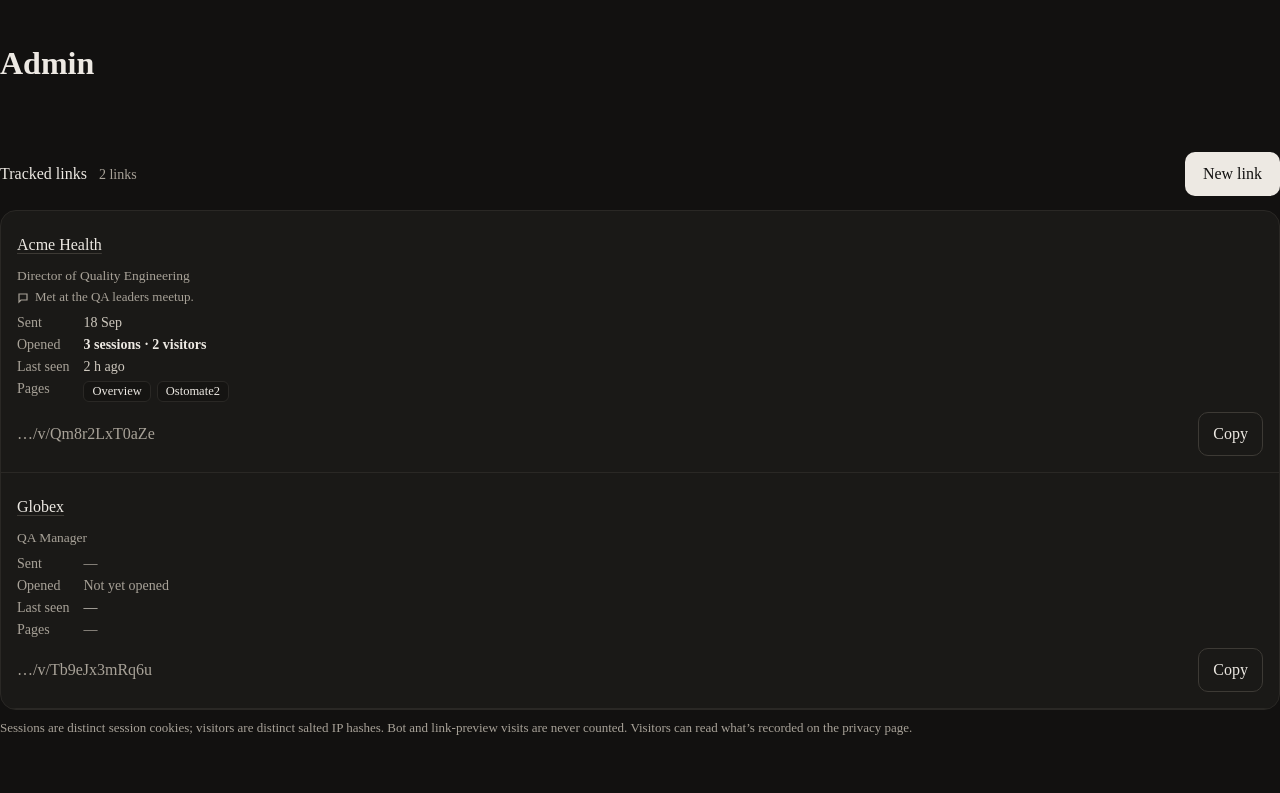
AdminLinks create form › closes on Cancel
Click the button "New link": (1232, 174) x1=1185 y1=152 x2=1279 y2=196
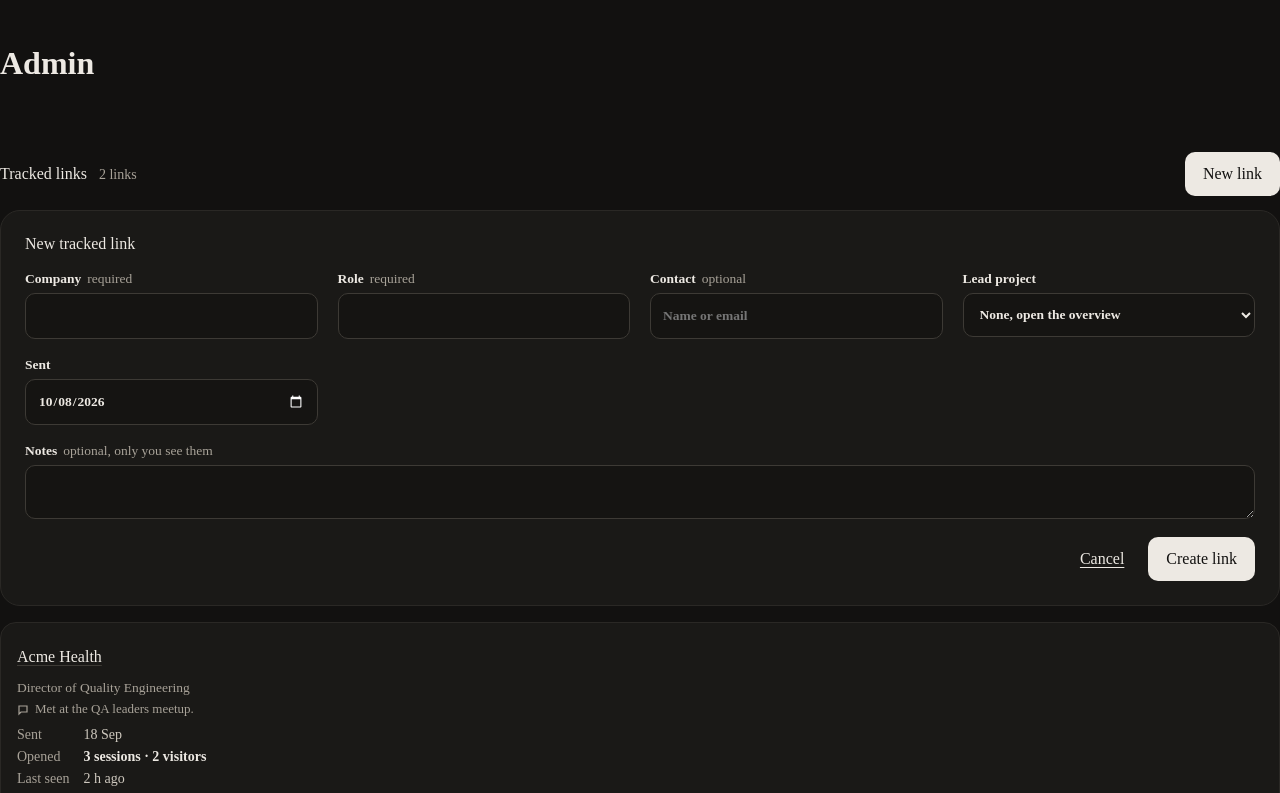
Click the button "Cancel": (1102, 559) x1=1066 y1=537 x2=1138 y2=581
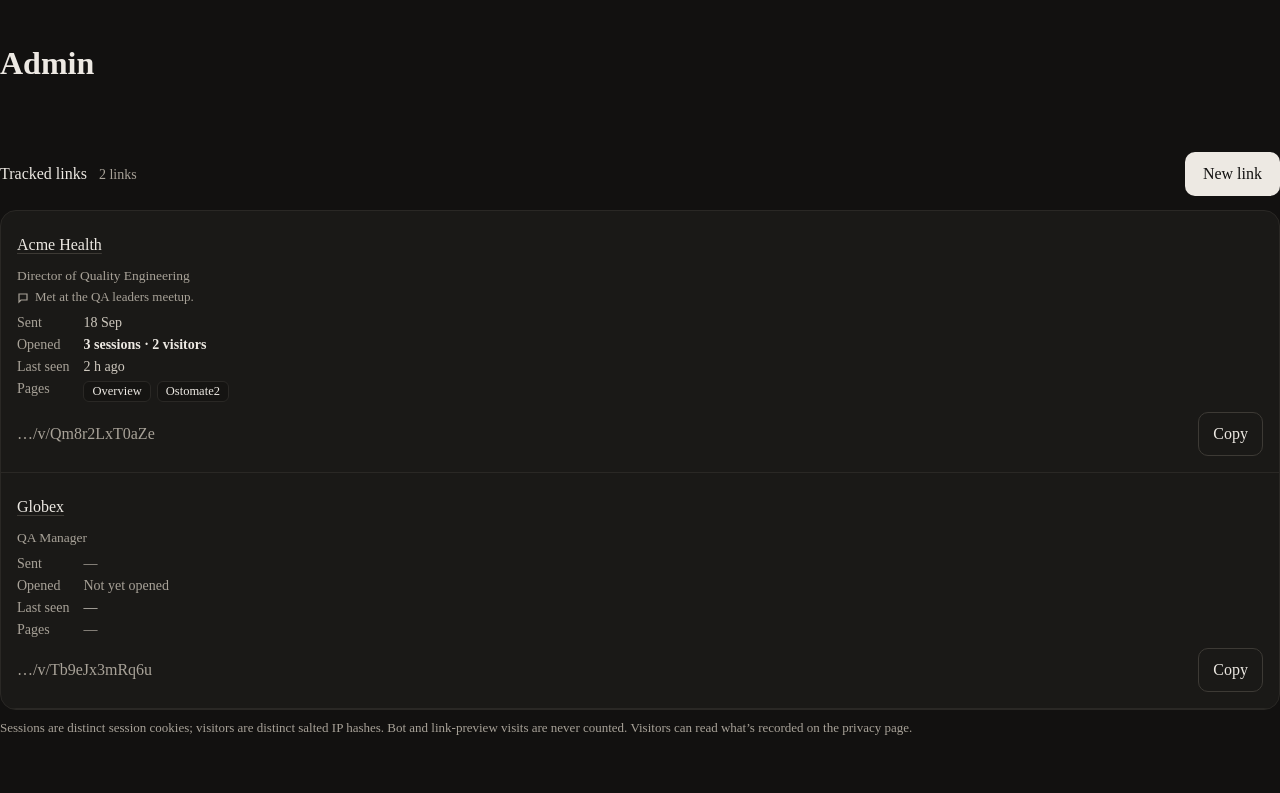
Result: the text "New tracked link" is gone
